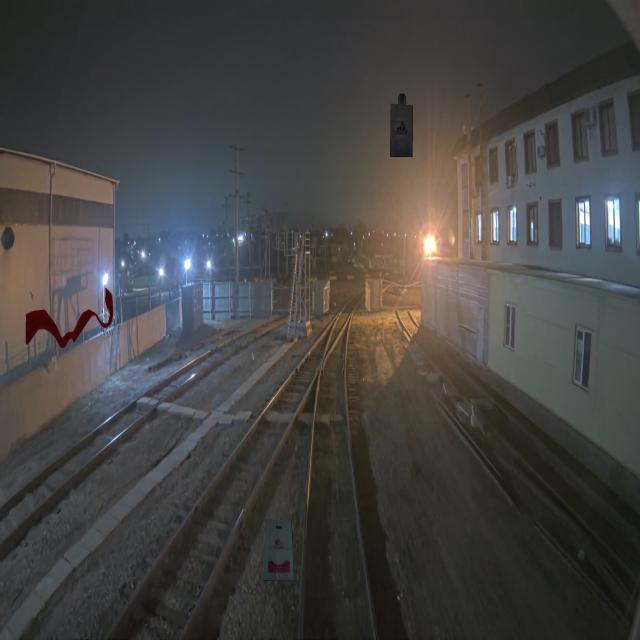balloon: (263, 518, 294, 582), (389, 93, 414, 157)
floating object: (24, 286, 114, 350)
